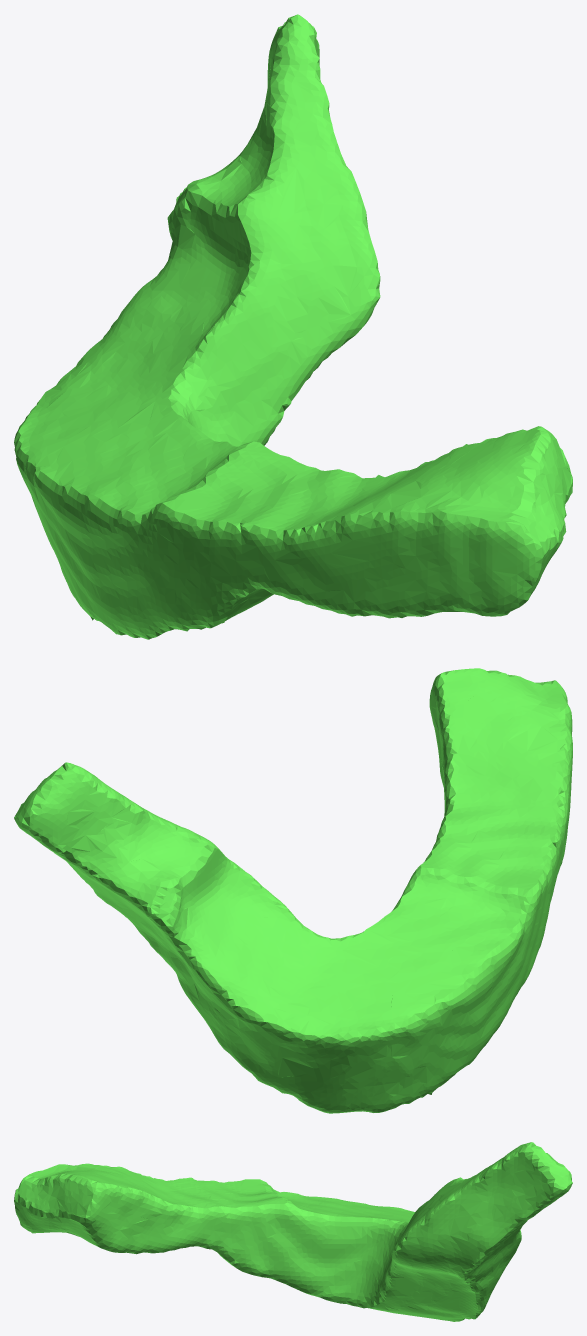
File: Model_10146_LH__Visual_area_4_(ventrolatereral_anterior_area)_(V4).obj
3 views of the same model, one above another, from view 1: azimuth 30°, elevation 25°; view 2: azimuth 150°, elevation 25°; view 3: azimuth 270°, elevation 25° (orthographic). The views are drawn at different scales.
Bounding box in the file's own units: 5.29 × 5.26 × 10.18.
